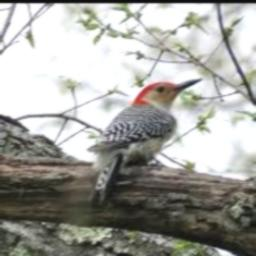Woodpecker: (88, 77, 203, 205)
